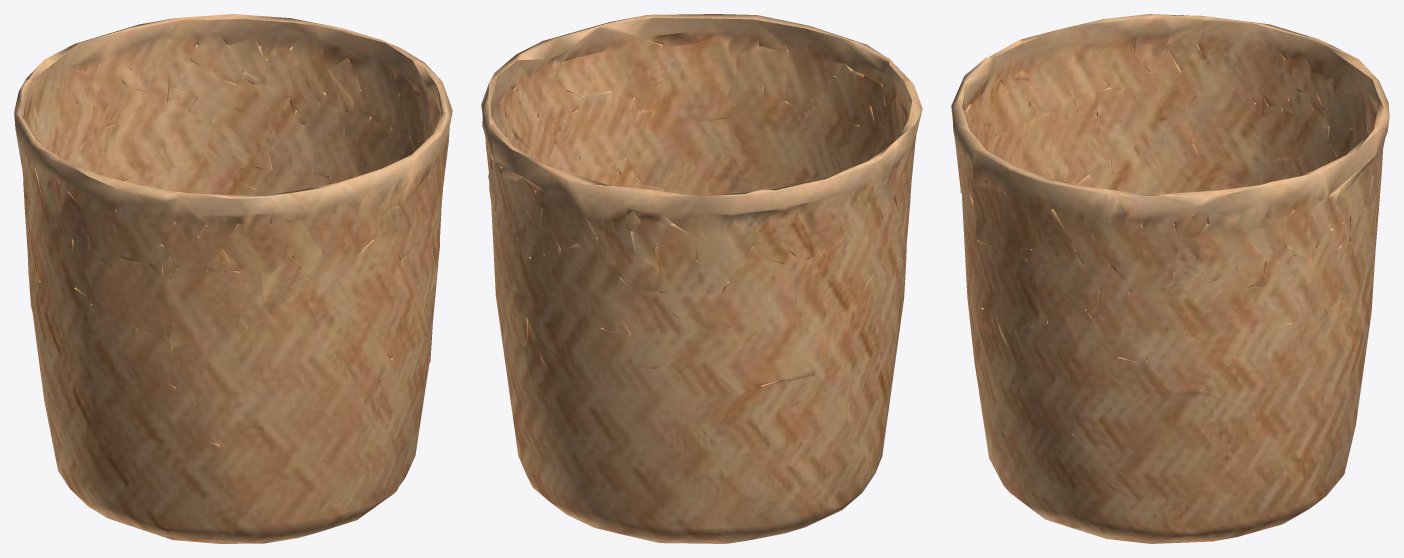
File: 14 - KLYNNON Plant pot - handmade bamboo 24 cm.glb
The picture shows the model from 3 angles, left to right: view 1: azimuth 30°, elevation 25°; view 2: azimuth 150°, elevation 25°; view 3: azimuth 270°, elevation 25°; orthographic projection.
Parts seen in each view (by area): view 1: ASY_ART_20516408_S01_NV01; view 2: ASY_ART_20516408_S01_NV01; view 3: ASY_ART_20516408_S01_NV01.
Boxes of the visible parts, x1,y1,x2,y2 form: ASY_ART_20516408_S01_NV01: [14, 14, 452, 543]; ASY_ART_20516408_S01_NV01: [481, 14, 922, 543]; ASY_ART_20516408_S01_NV01: [951, 14, 1389, 543].
Bounding box in the file's own units: 0.2701 × 0.2598 × 0.27.
Materials: 2 (2 with a texture image).
